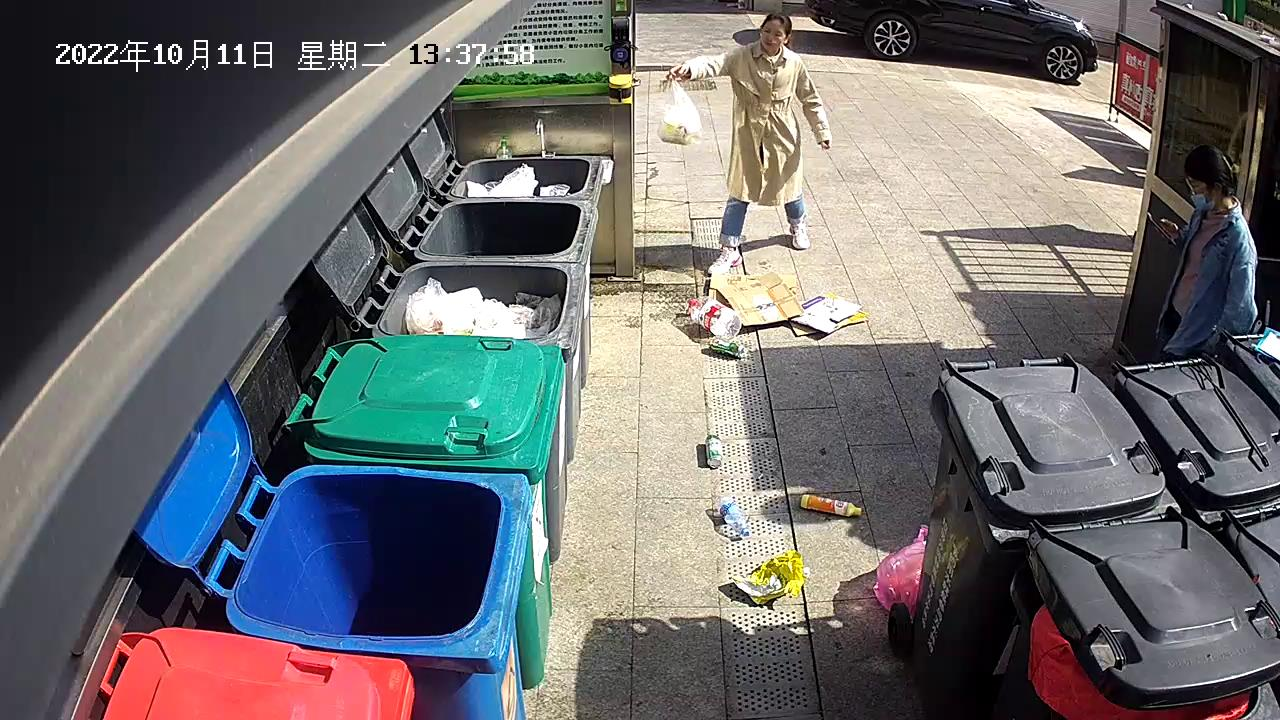garbage: (727, 543, 811, 612)
garbage-bag: (869, 520, 941, 617), (655, 70, 710, 150)
lvzhipin: (704, 333, 747, 362), (702, 431, 727, 475)
person: (663, 9, 836, 279)
suliaozhipin: (682, 293, 746, 343), (797, 488, 866, 523), (709, 492, 753, 541)
worker: (1142, 141, 1265, 375)
zhizhipin: (705, 269, 805, 327), (786, 289, 874, 341)
